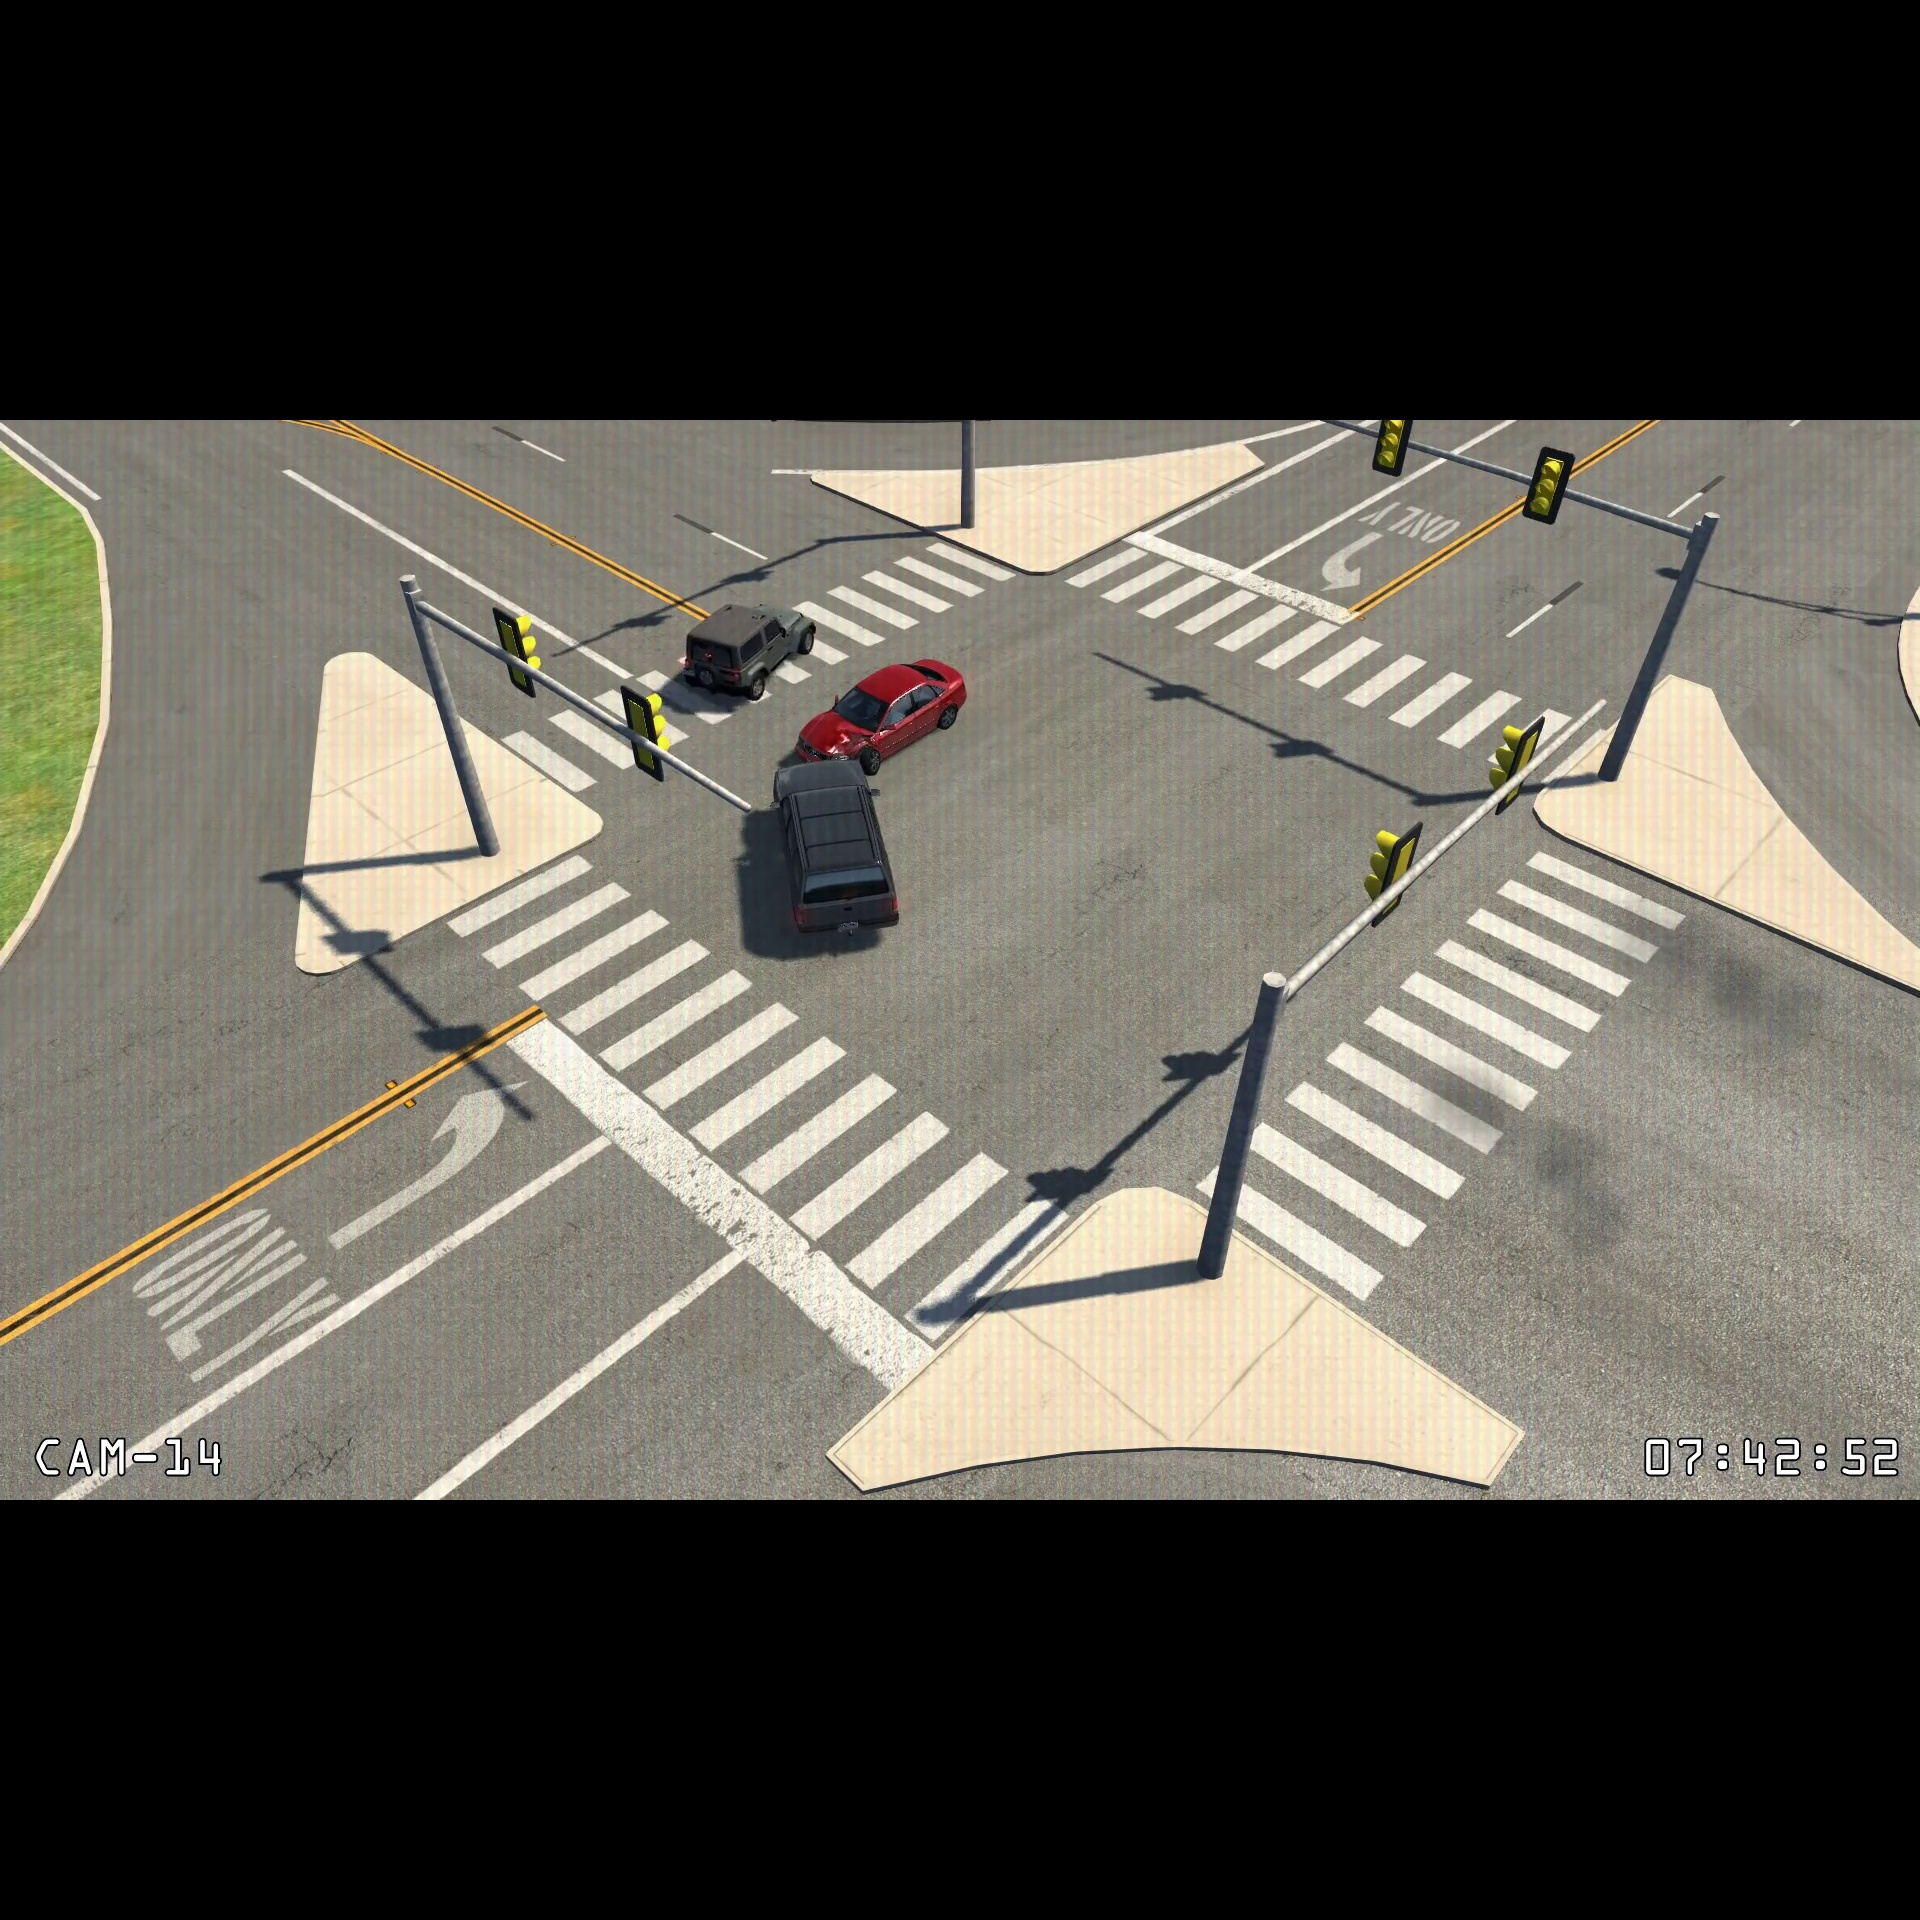vehicle: (768, 753, 904, 948), (796, 652, 972, 772), (679, 593, 825, 712)
